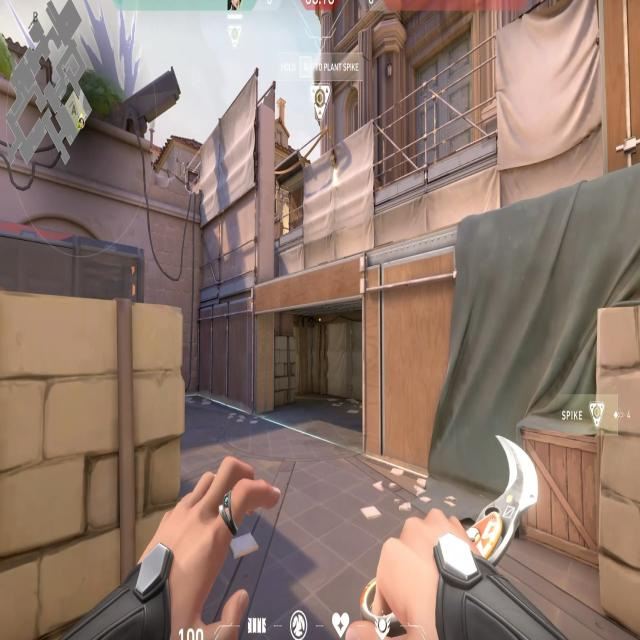A_Heaven_Wall: (188, 69, 280, 305)
A_Hell: (250, 274, 376, 456)
